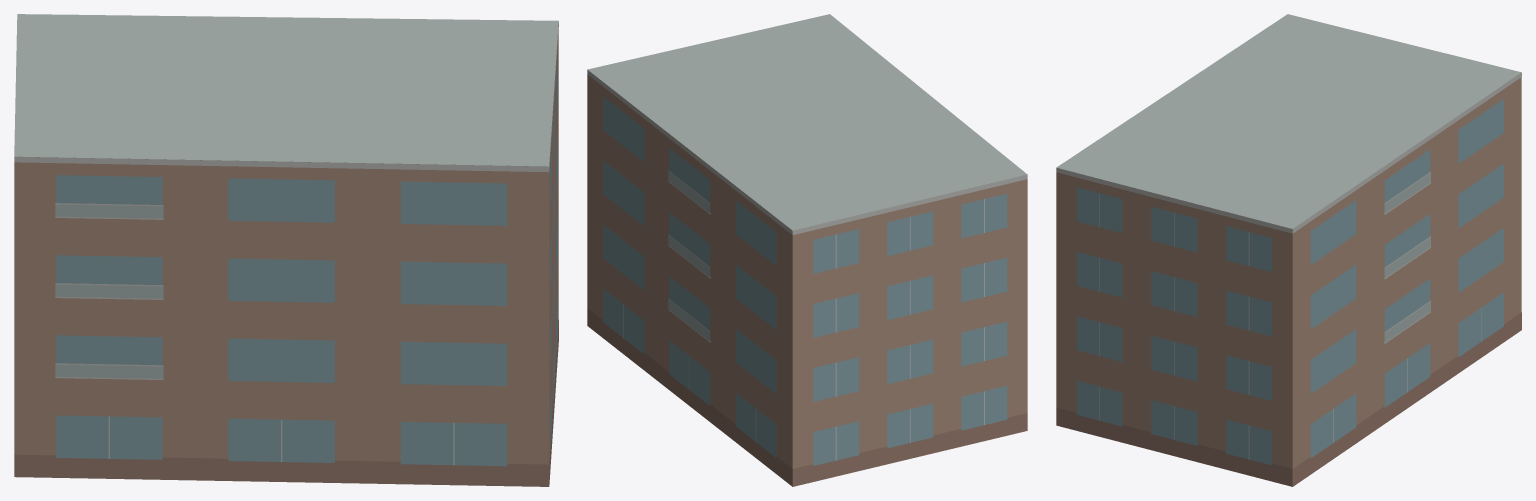
The model's file is survey-upis-32624785.glb.
3 views of the same model, side by side, from view 1: azimuth 30°, elevation 25°; view 2: azimuth 150°, elevation 25°; view 3: azimuth 270°, elevation 25° (orthographic). The views are drawn at different scales.
Parts seen in each view (by area): view 1: survey-upis-32624785.tmp; view 2: survey-upis-32624785.tmp; view 3: survey-upis-32624785.tmp.
Part boxes in pixels (x1,y1,x2,y2): survey-upis-32624785.tmp: [14, 14, 558, 486]; survey-upis-32624785.tmp: [587, 14, 1027, 486]; survey-upis-32624785.tmp: [1056, 14, 1521, 486].
Size of the model in its own units: 24.51 by 13.7 by 22.43.
